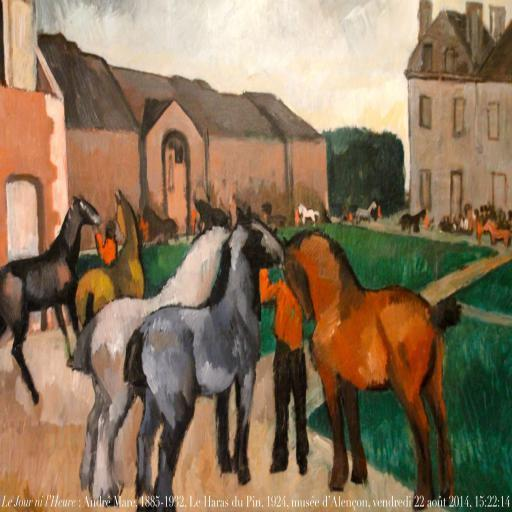horse: (281, 228, 462, 512), (121, 204, 285, 512), (68, 200, 232, 507), (0, 196, 102, 407), (74, 188, 146, 328), (141, 204, 179, 241), (482, 218, 511, 248), (399, 206, 427, 234), (354, 199, 378, 223), (298, 202, 320, 226)
